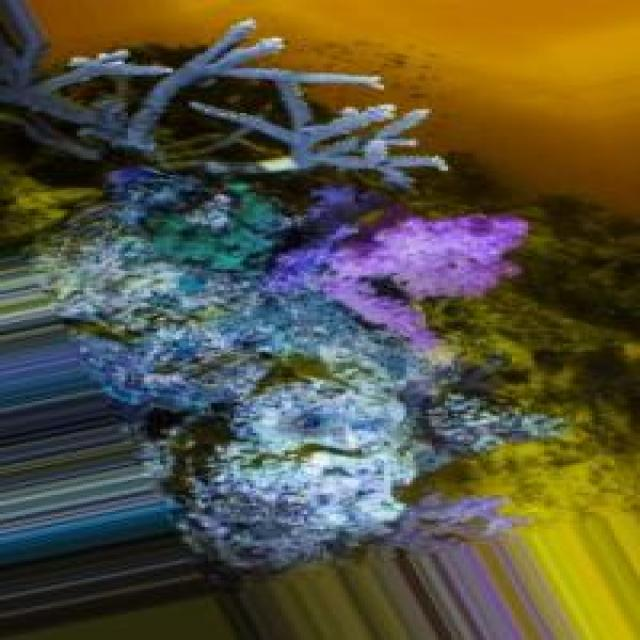Healthy: (59, 172, 446, 549), (43, 22, 395, 176), (350, 216, 529, 306)
